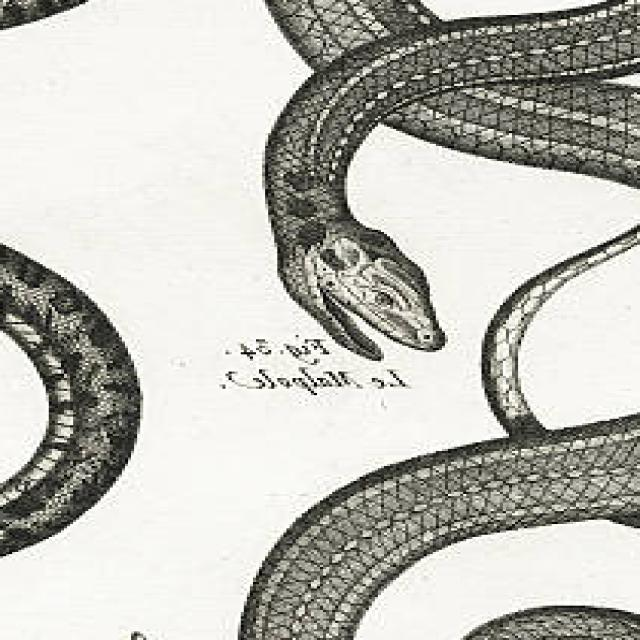Snake: (238, 0, 640, 640), (0, 0, 241, 640)
